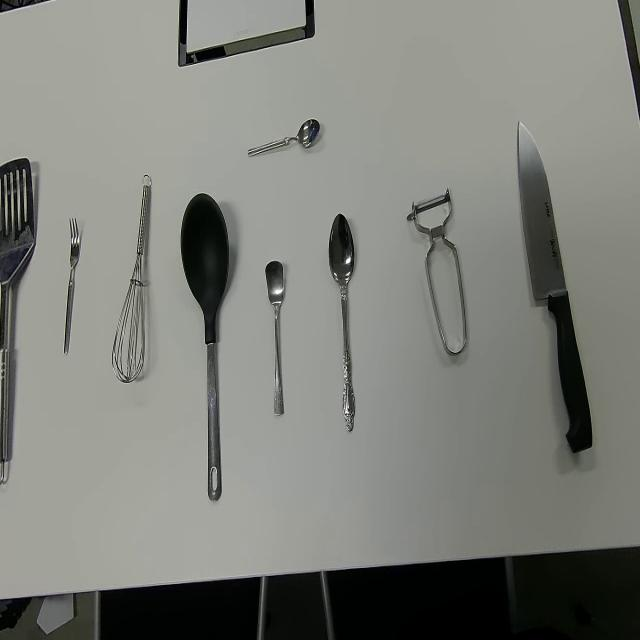Desert-Spoon: (327, 212, 355, 434)
Dinner-Fork: (64, 215, 82, 358)
Kitchen-Knife: (516, 118, 594, 454)
Peeler: (406, 186, 468, 356)
Serving-Spoon: (180, 190, 230, 503), (0, 155, 36, 488)
Tea-Spoon: (265, 256, 285, 416), (247, 114, 321, 156)
Whisk: (111, 172, 152, 384)
